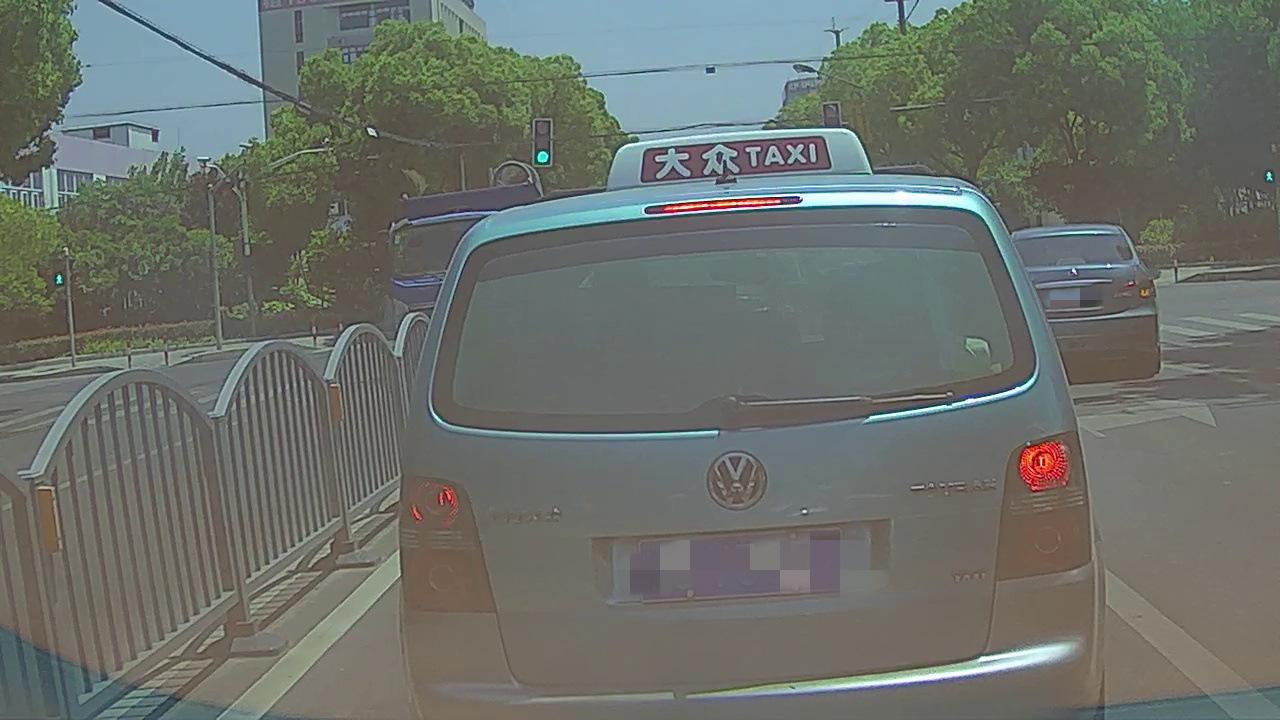traffic_light: (533, 119, 551, 166)
